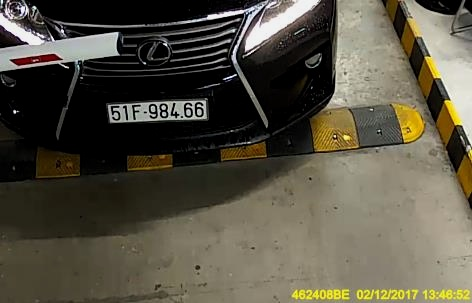plate: (106, 93, 213, 130)
